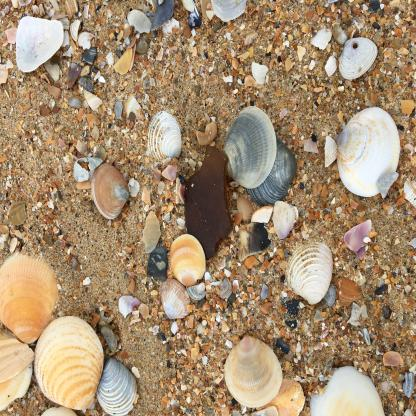trash: (107, 242, 199, 309)
